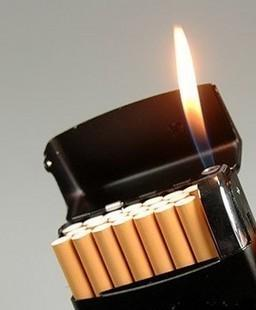Fire: (168, 19, 218, 169)
